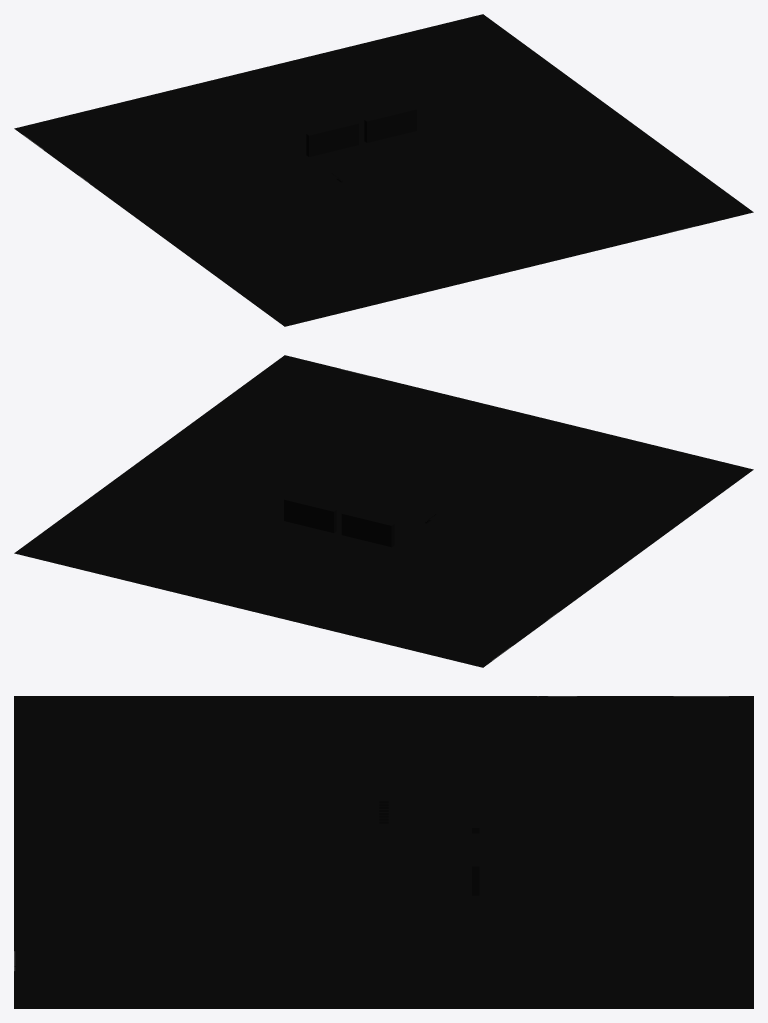
File: StartScenePrev.obj
3 renders of one model, top to bottom at view 1: azimuth 30°, elevation 25°; view 2: azimuth 150°, elevation 25°; view 3: azimuth 270°, elevation 25°, orthographic. The views are drawn at different scales.
Visible parts, largest first — view 1: Bake; view 2: Bake; view 3: Bake.
Part boxes in pixels (x1,y1,x2,y2): Bake: (14,14,753,326); Bake: (14,355,753,667); Bake: (14,696,753,1008).
Bounding box in the file's own units: 200 × 8.77 × 200.
